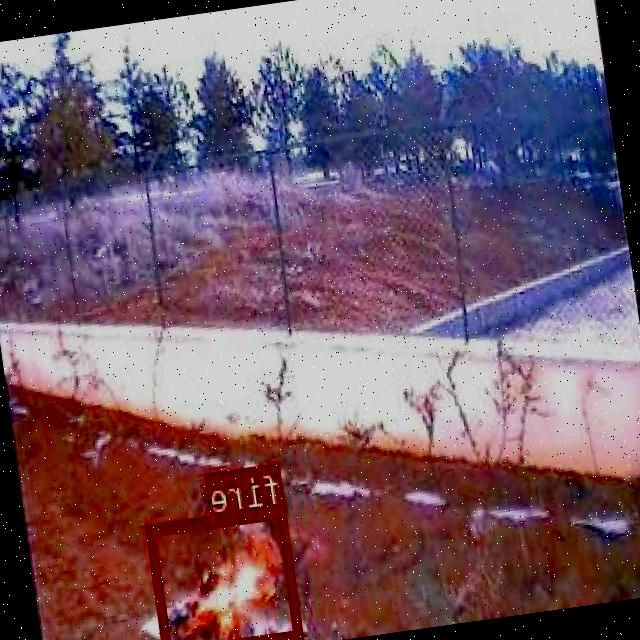fire: (148, 503, 304, 640)
